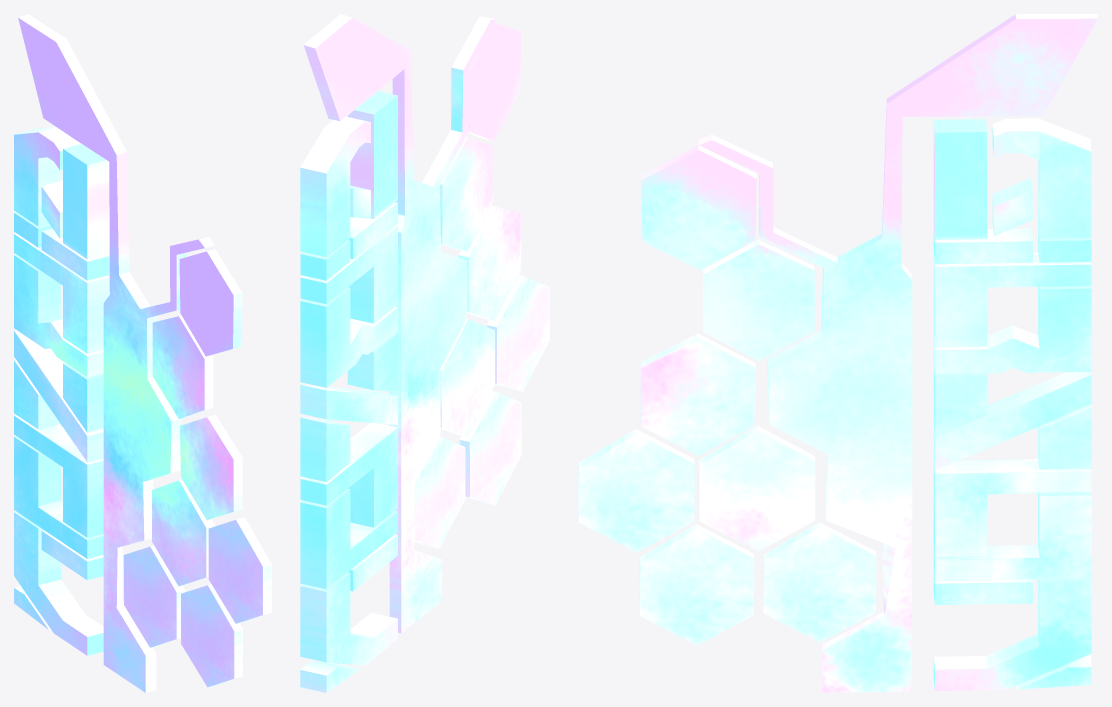
The model's file is SM_HologramHexagon.fbx.
The picture shows the model from 3 angles, left to right: view 1: azimuth 30°, elevation 25°; view 2: azimuth 150°, elevation 25°; view 3: azimuth 270°, elevation 25°; orthographic projection. The views are drawn at different scales.
Visible parts, largest first — view 1: SM_HologramHexagon_LOD0; view 2: SM_HologramHexagon_LOD0; view 3: SM_HologramHexagon_LOD0.
Part boxes in pixels (x1=…): SM_HologramHexagon_LOD0: x1=14, y1=14, x2=271, y2=692; SM_HologramHexagon_LOD0: x1=300, y1=14, x2=549, y2=692; SM_HologramHexagon_LOD0: x1=578, y1=14, x2=1097, y2=692.
Size of the model in its own units: 17.8 by 214 by 305.
